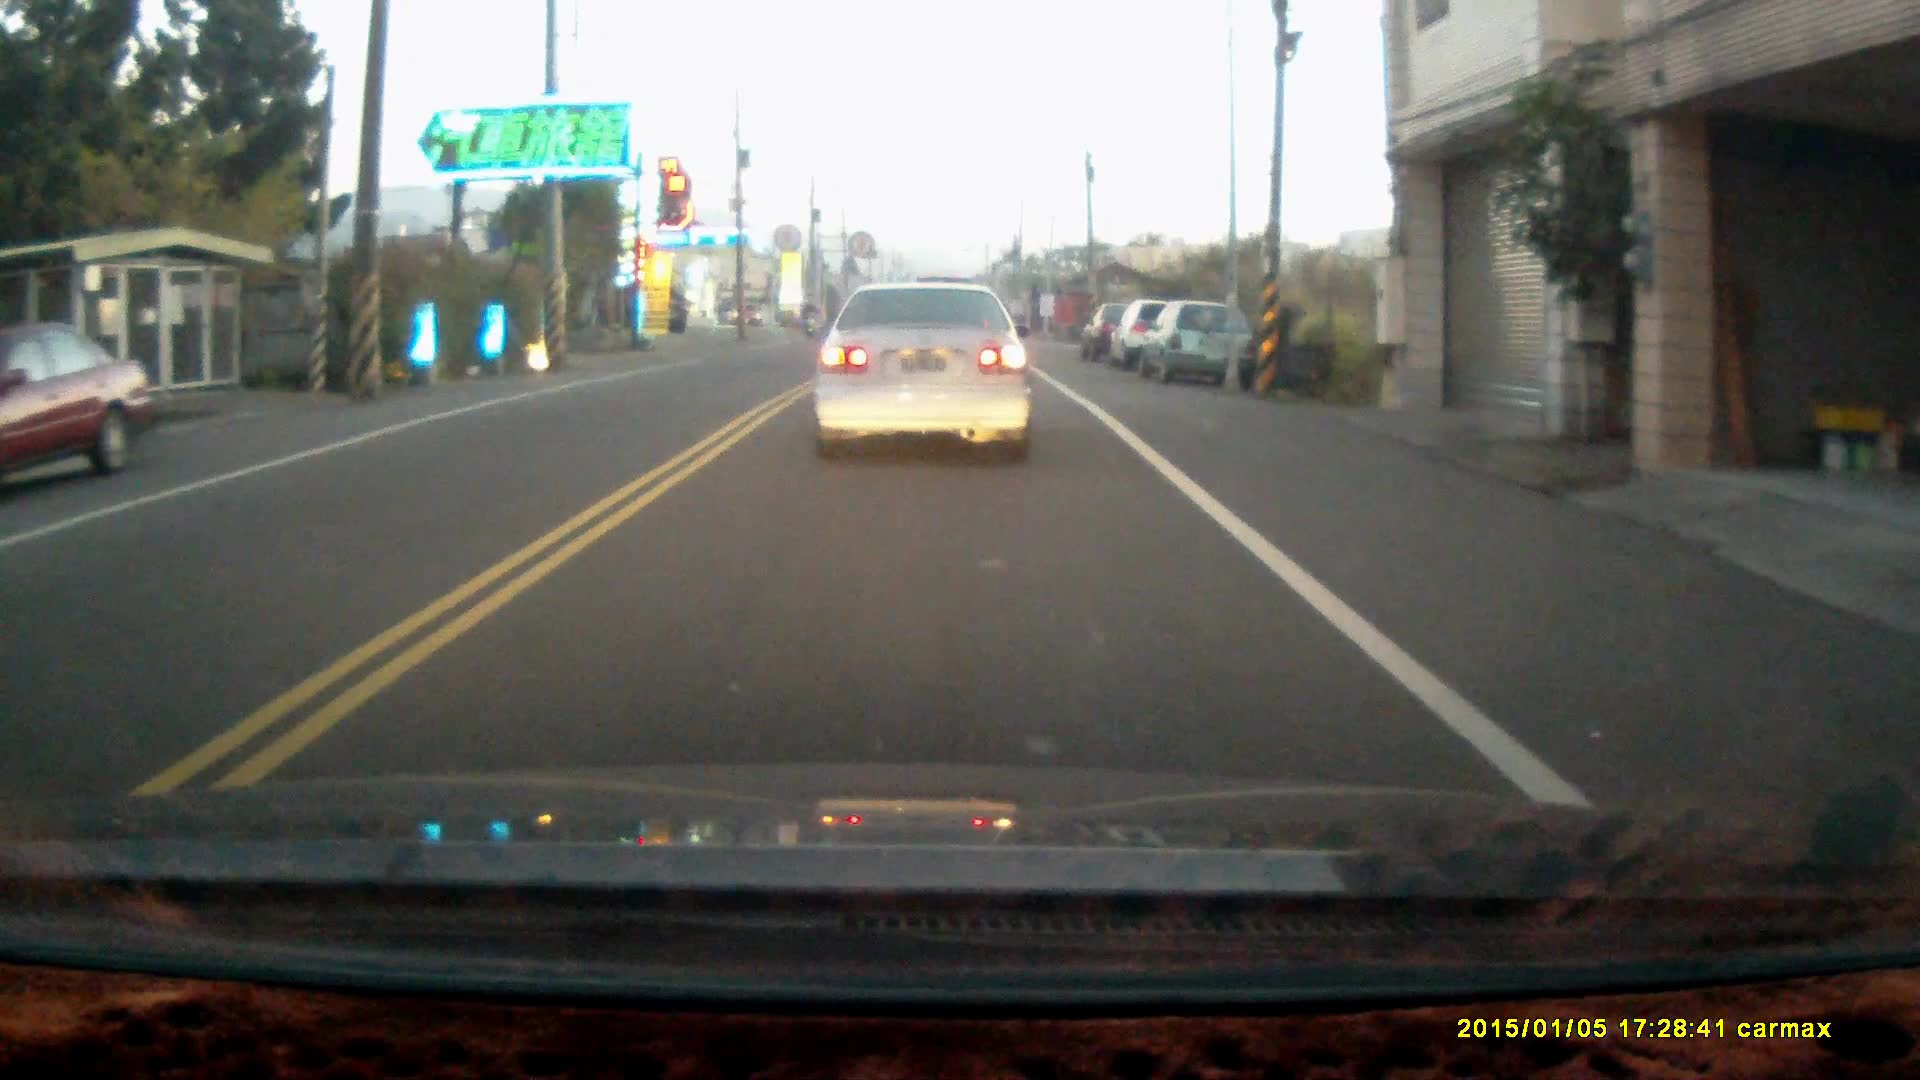vehicle: (812, 277, 1036, 459), (1, 324, 153, 493), (1145, 299, 1255, 393), (1116, 295, 1205, 367), (1077, 297, 1170, 357)
